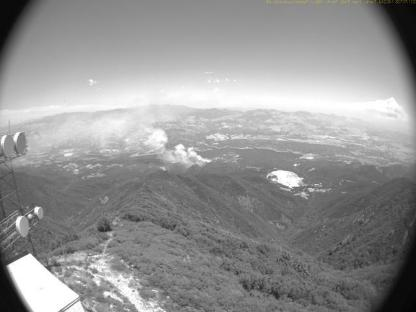smoke: (66, 102, 211, 168)
